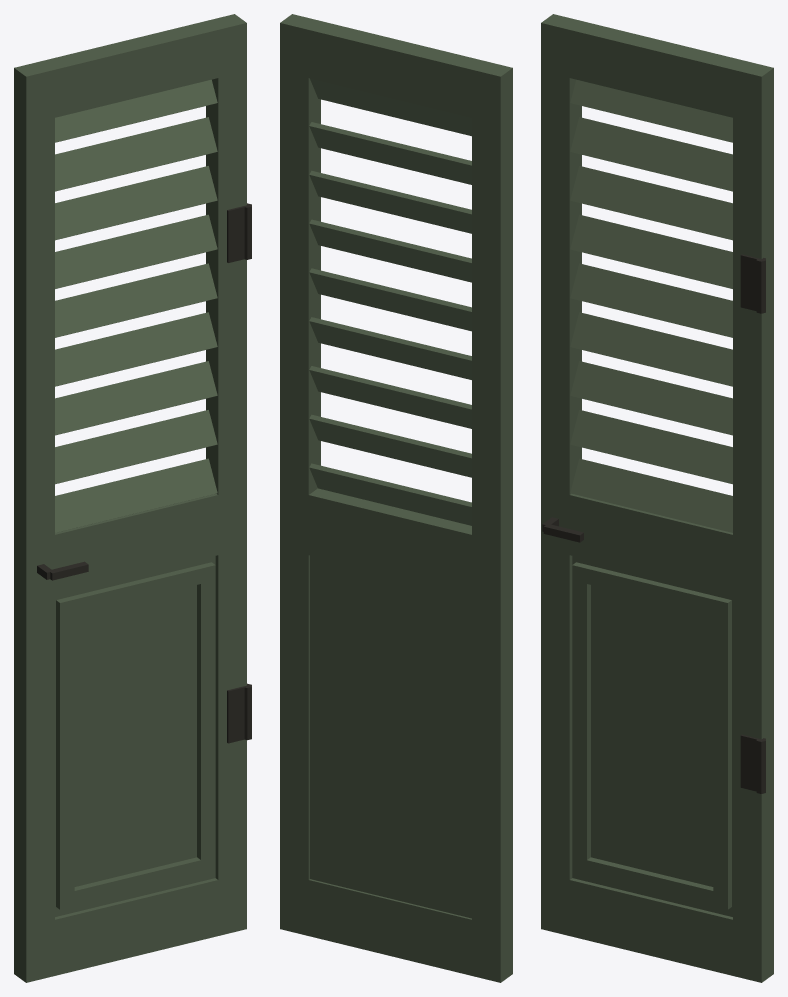
File: SM_Wall_WoodDoor_Right_01.fbx
3 views of the same model, side by side, from view 1: azimuth 30°, elevation 25°; view 2: azimuth 150°, elevation 25°; view 3: azimuth 330°, elevation 25° (orthographic).
Parts seen in each view (by area): view 1: SM_Wall_WoodDoor_Right_01; view 2: SM_Wall_WoodDoor_Right_01; view 3: SM_Wall_WoodDoor_Right_01.
Part boxes in pixels (box(x1,y1,x2,y2)): SM_Wall_WoodDoor_Right_01: box(14, 14, 251, 982); SM_Wall_WoodDoor_Right_01: box(280, 14, 512, 982); SM_Wall_WoodDoor_Right_01: box(541, 14, 773, 982).
Size of the model in its own units: 0.588 by 2.26 by 0.108.
1 material, 1 textured.
